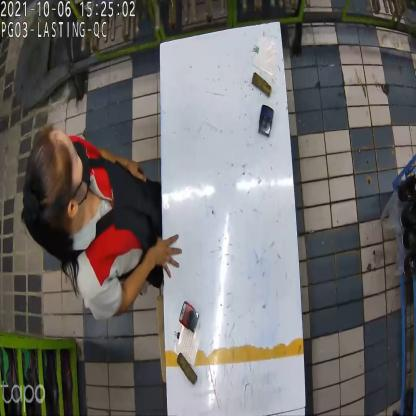stamp: (257, 107, 277, 141), (181, 297, 198, 330)
